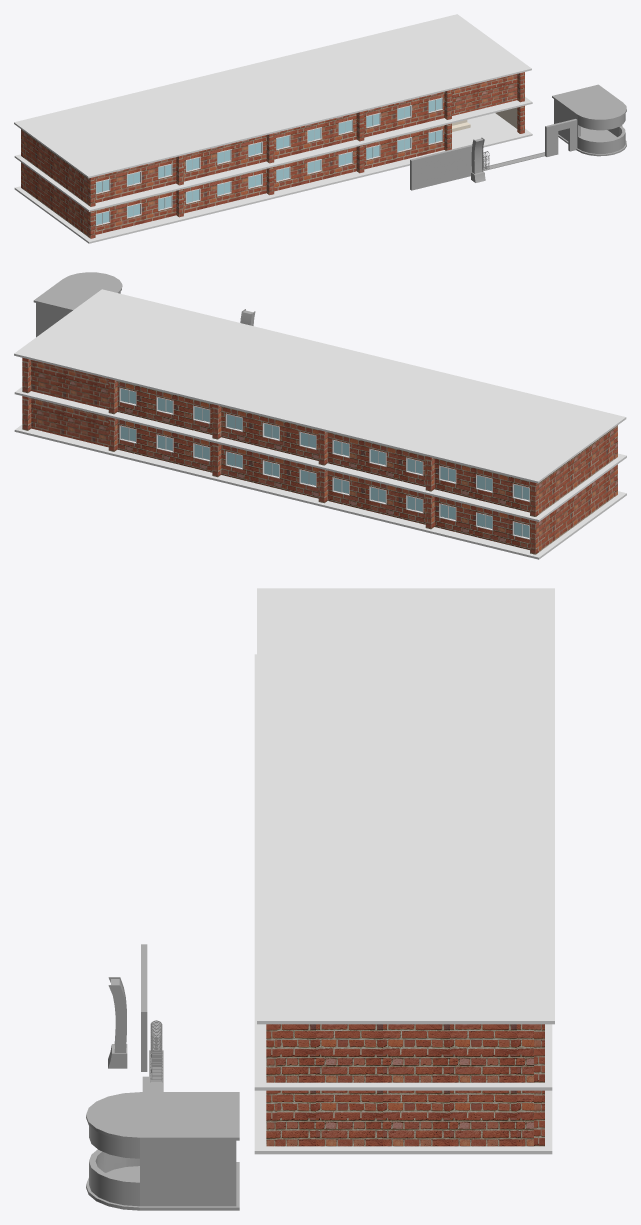
File: School_2.glb
The picture shows the model from 3 angles, top to bottom: view 1: azimuth 30°, elevation 25°; view 2: azimuth 150°, elevation 25°; view 3: azimuth 270°, elevation 25°; orthographic projection. The views are drawn at different scales.
Parts seen in each view (by area): view 1: Floor3, polySurface13653, Wall_8, Floor1, Windows_1, pCube254, polySurface12588, Wall_5, Piller_3, Door_structure_guard_room, polySurface12591, polySurface12587 (+3 smaller); view 2: Floor3, polySurface13653, Wall_6, Floor1, Windows_1, Wall_10, Wall_5, Piller_2, polySurface12588, polySurface12589; view 3: Floor3, polySurface13653, Wall_9, polySurface12588, polySurface12586, Floor1, polySurface12591, polySurface12587, stone_2, polySurface12593, pCube254.
Part boxes in pixels (x1,y1,x2,y2): Floor3: (14,14,531,178); polySurface13653: (14,72,532,211); Wall_8: (95,125,444,234); Floor1: (14,113,532,243); Windows_1: (95,129,442,226); pCube254: (410,144,472,190); polySurface12588: (552,84,626,121); Wall_5: (24,164,87,236); Piller_3: (88,105,524,238); Door_structure_guard_room: (545,119,577,156); polySurface12591: (578,126,625,153); polySurface12587: (558,126,626,156); Floor3: (14,289,626,483); polySurface13653: (14,357,626,521); Wall_6: (117,419,529,549); Floor1: (14,424,626,559); Windows_1: (119,425,529,539); Wall_10: (31,398,108,447); Wall_5: (539,467,614,551); Piller_2: (22,396,538,554); polySurface12588: (33,272,122,311); polySurface12589: (36,303,71,337); Floor3: (257,588,554,1024); polySurface13653: (254,654,552,1090); Wall_9: (277,1090,533,1146); polySurface12588: (86,1092,239,1140); polySurface12586: (140,1140,229,1206); Floor1: (254,1090,552,1154); polySurface12591: (89,1149,139,1206); polySurface12587: (86,1162,239,1210); stone_2: (108,977,126,1052); polySurface12593: (89,1125,139,1158); pCube254: (141,944,147,1071).
Size of the model in its own units: 52.43 by 6.59 by 21.05.
Materials: 20 (1 with a texture image).
